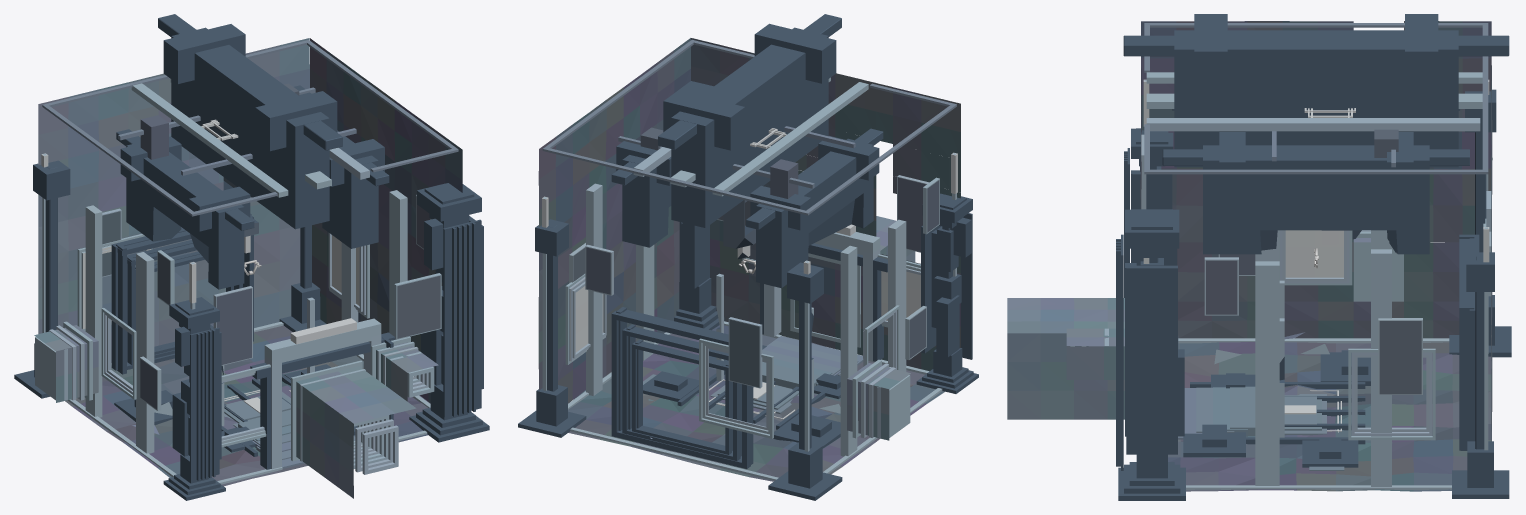
File: antichamber_core.glb
The picture shows the model from 3 angles, left to right: view 1: azimuth 30°, elevation 25°; view 2: azimuth 150°, elevation 25°; view 3: azimuth 270°, elevation 25°; orthographic projection. The views are drawn at different scales.
Parts seen in each view (by area): view 1: salle_cosmique; view 2: salle_cosmique; view 3: salle_cosmique.
Boxes of the visible parts, x1,y1,x2,y2 form: salle_cosmique: (14,14,489,500); salle_cosmique: (518,14,978,500); salle_cosmique: (1007,14,1511,500).
Bounding box in the file's own units: 127 × 124 × 146.
